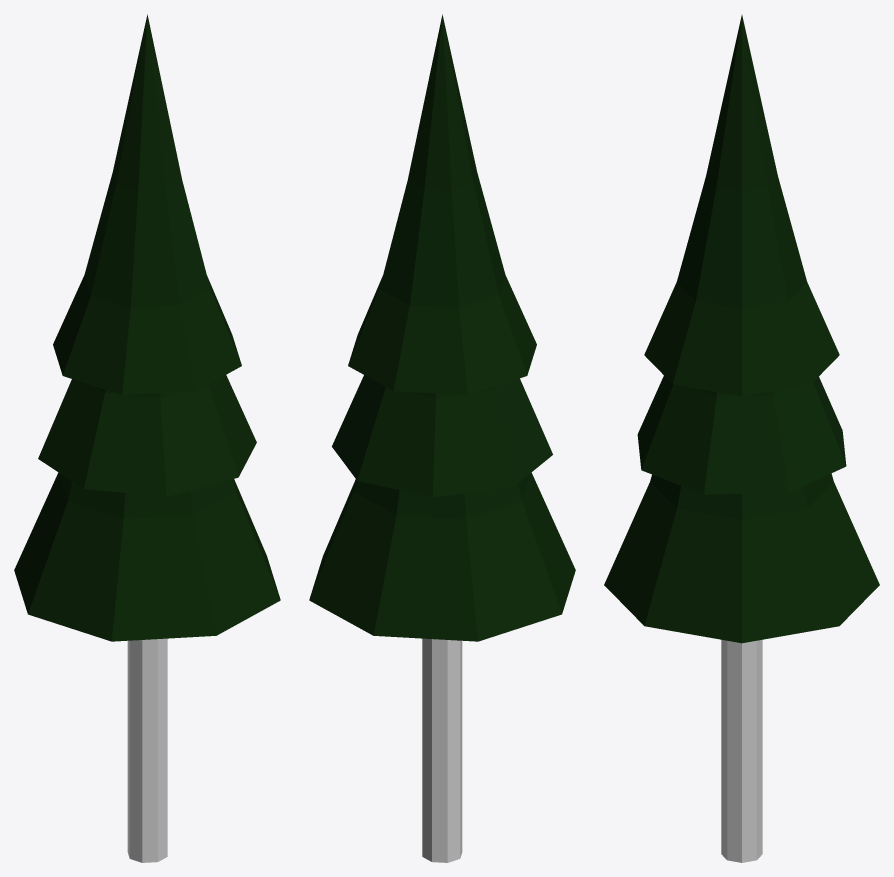
Rendered from Pine_Tree_1.FBX.
3 renders of one model, left to right at view 1: azimuth 30°, elevation 25°; view 2: azimuth 150°, elevation 25°; view 3: azimuth 270°, elevation 25°, orthographic.
Parts seen in each view (by area): view 1: Top_Pine, Trunk_Pine; view 2: Top_Pine, Trunk_Pine; view 3: Top_Pine, Trunk_Pine.
Boxes of the visible parts, x1,y1,x2,y2 form: Top_Pine: [14, 14, 280, 641]; Trunk_Pine: [127, 638, 167, 862]; Top_Pine: [309, 14, 575, 641]; Trunk_Pine: [422, 638, 462, 862]; Top_Pine: [604, 15, 879, 643]; Trunk_Pine: [721, 639, 762, 862].
Size of the model in its own units: 84.44 by 284 by 84.44.
